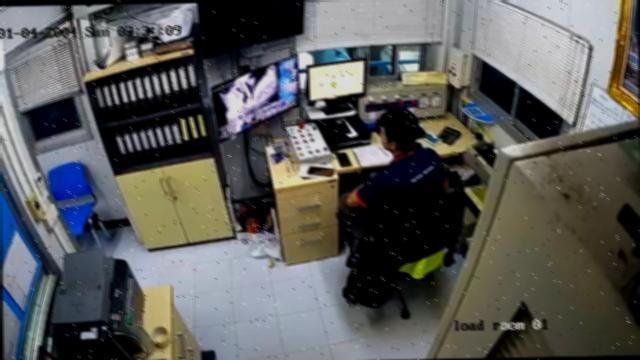Head: (375, 108, 423, 153)
People: (337, 109, 450, 236)
Phone: (304, 164, 337, 176), (331, 150, 355, 166)
